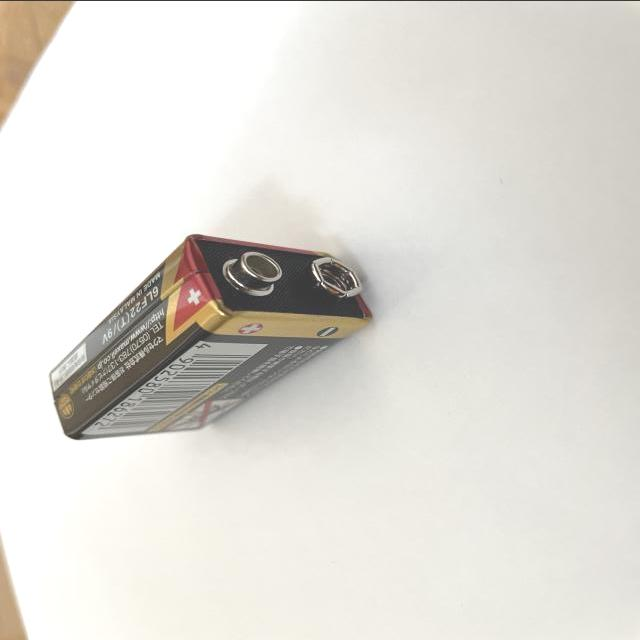9V: (45, 232, 379, 440)
